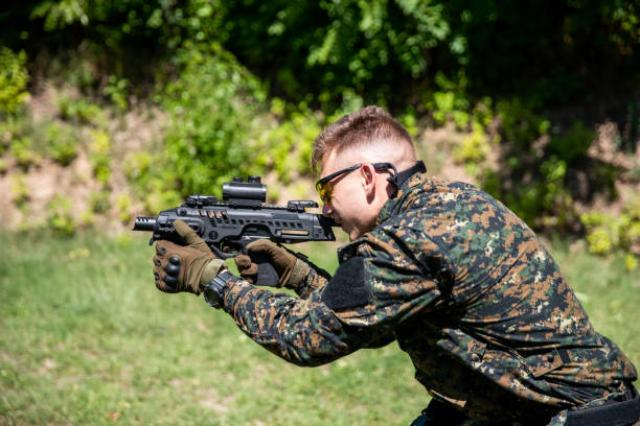other: (307, 111, 567, 414)
